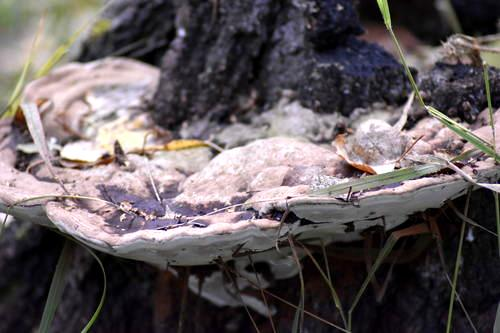Ganoderma - Fruit Body: (0, 54, 500, 305)
